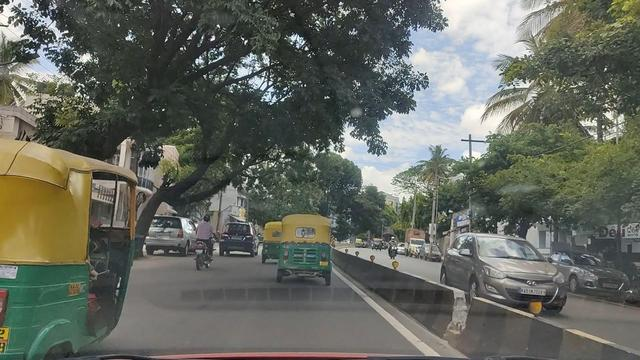LMV: (2, 134, 134, 359), (278, 209, 336, 291), (191, 215, 222, 271), (224, 219, 256, 262), (268, 218, 281, 256)
